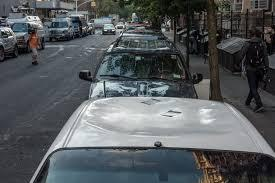roof-dent: (62, 97, 250, 148)
